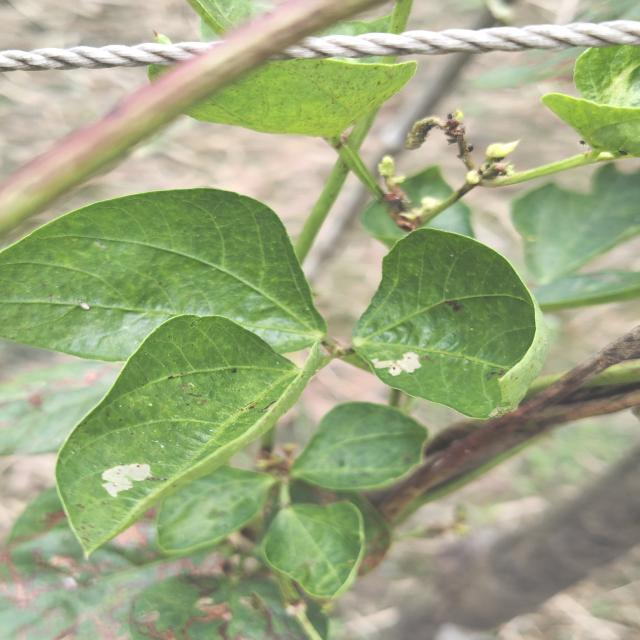leaf-high: (180, 60, 414, 142)
leaf-low: (1, 188, 326, 361), (292, 402, 428, 492), (263, 501, 391, 589), (156, 465, 274, 555)
sitaw-aphid-high: (56, 315, 325, 556), (352, 229, 549, 419), (129, 574, 313, 640), (291, 596, 330, 640)
